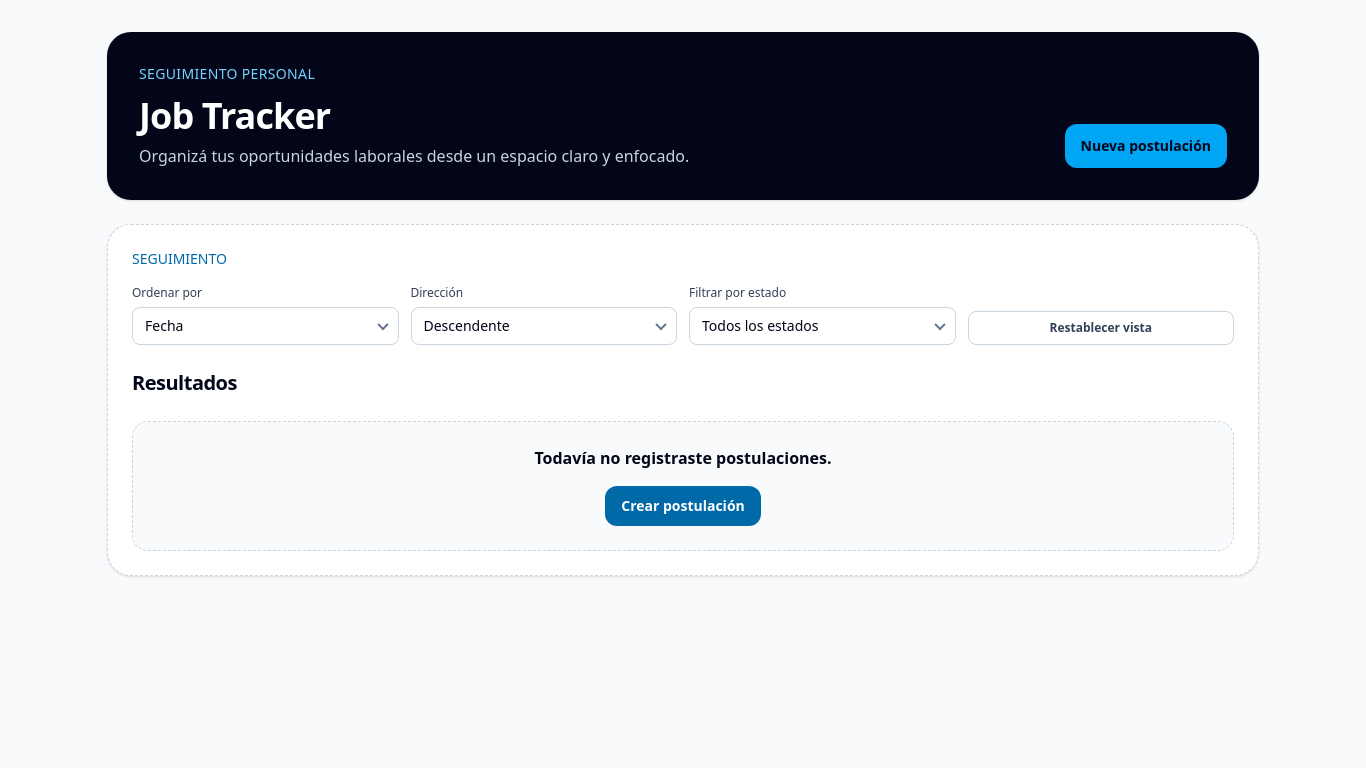
Test case: App › opens the application form from the primary action
The image size is (1366, 768).
Click the button "Nueva postulación" at (1146, 146), box [1064, 124, 1227, 168]
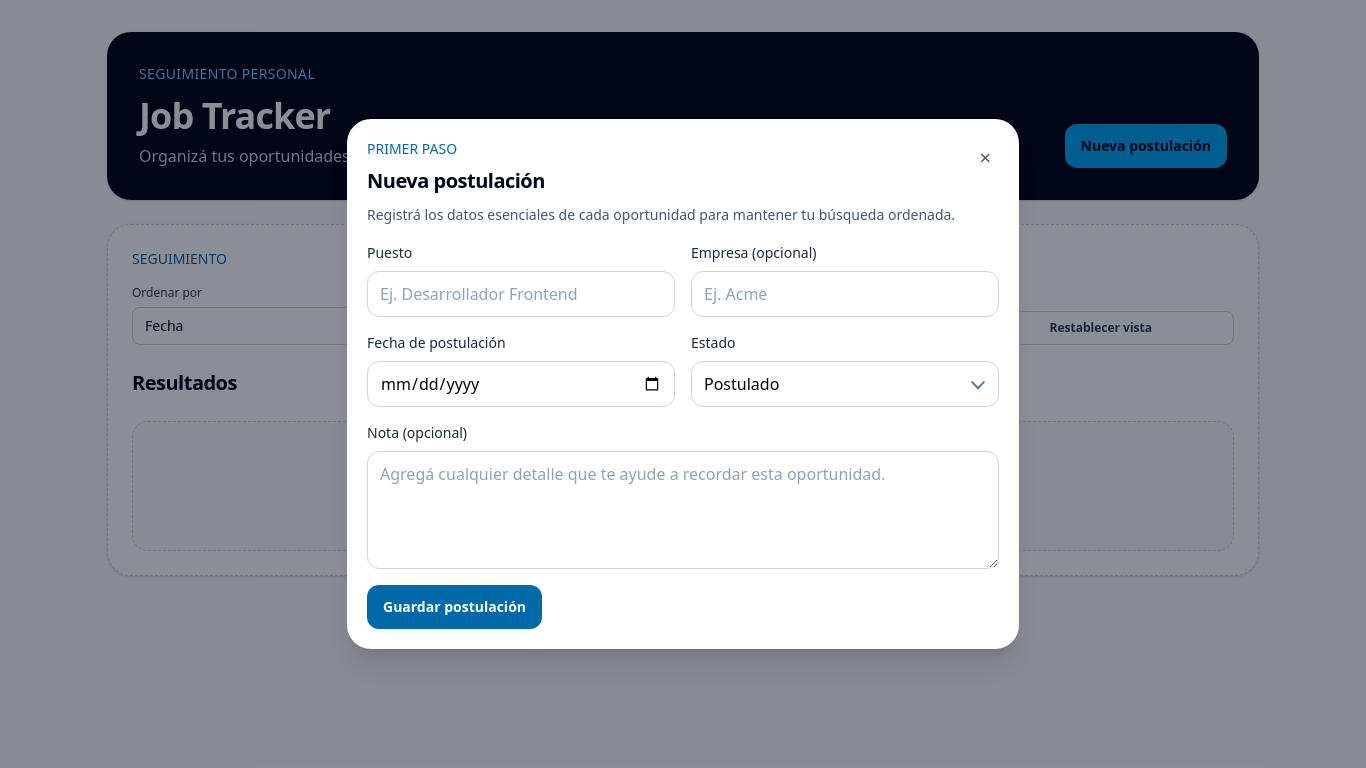
expect the dialog "Nueva postulación" is shown: met
expect the form named "Nueva postulación" is shown: met, box [367, 243, 999, 629]
